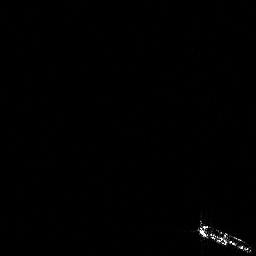ship: (197, 220, 253, 252)
